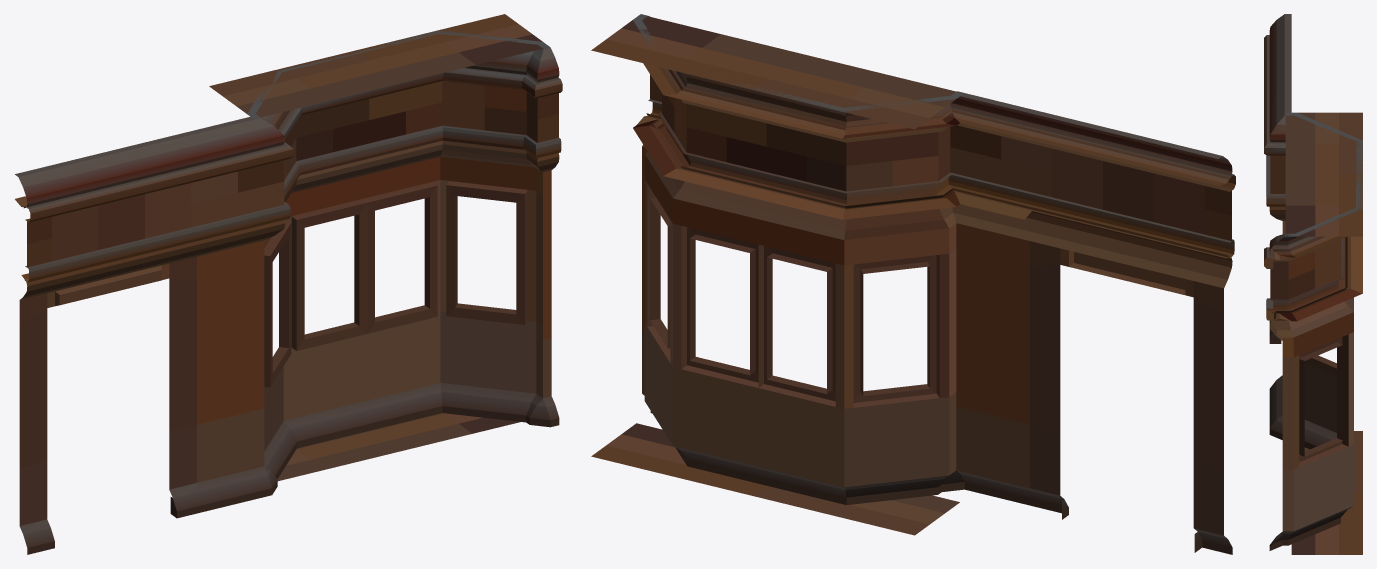
File: Wall_HomeA-4WindowADoor-R6m.fbx
3 views of the same model, side by side, from view 1: azimuth 30°, elevation 25°; view 2: azimuth 150°, elevation 25°; view 3: azimuth 270°, elevation 25° (orthographic). The views are drawn at different scales.
Parts seen in each view (by area): view 1: Wall_HomeA-4WindowADoor-R6m; view 2: Wall_HomeA-4WindowADoor-R6m; view 3: Wall_HomeA-4WindowADoor-R6m.
Boxes of the visible parts, <box> form: Wall_HomeA-4WindowADoor-R6m: <box>15,14,562,554</box>; Wall_HomeA-4WindowADoor-R6m: <box>591,14,1235,554</box>; Wall_HomeA-4WindowADoor-R6m: <box>1264,14,1362,554</box>.
Size of the model in its own units: 600 by 400 by 112.
